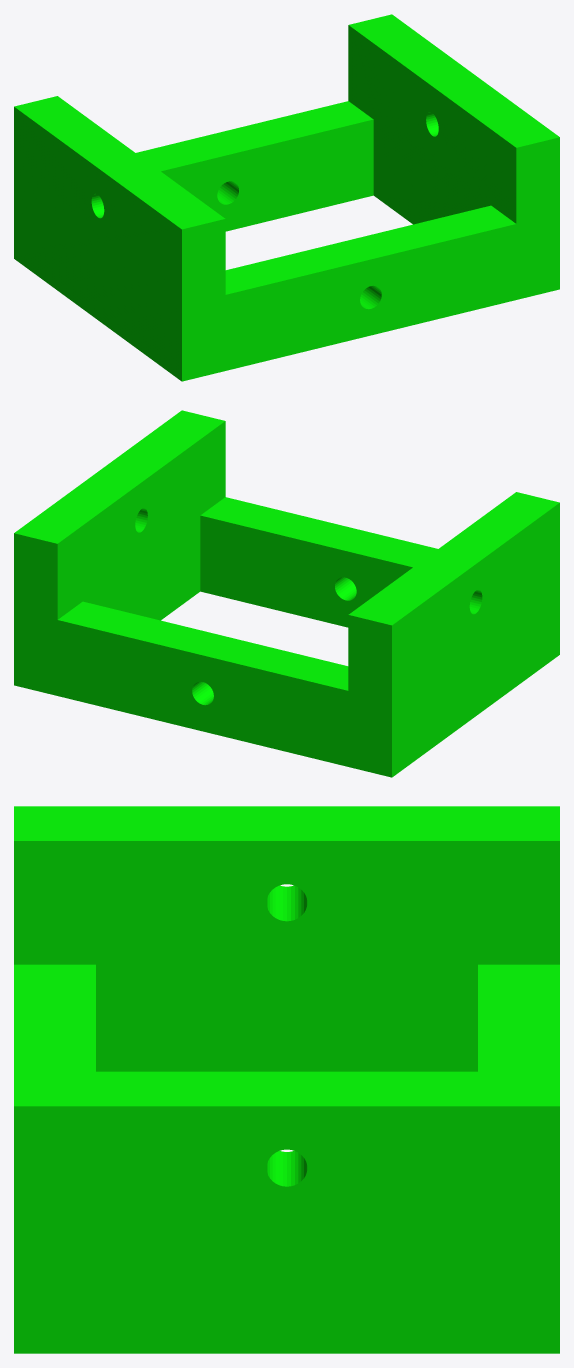
Rendered from plug.glb.
3 renders of one model, top to bottom at view 1: azimuth 30°, elevation 25°; view 2: azimuth 150°, elevation 25°; view 3: azimuth 270°, elevation 25°, orthographic. The views are drawn at different scales.
Visible parts, largest first — view 1: plug; view 2: plug; view 3: plug.
Boxes of the visible parts, box(x1,y1,x2,y2) form: plug: box(14, 14, 559, 381); plug: box(14, 410, 559, 777); plug: box(14, 806, 559, 1353).
Bounding box in the file's own units: 0.26 × 0.1 × 0.2.
